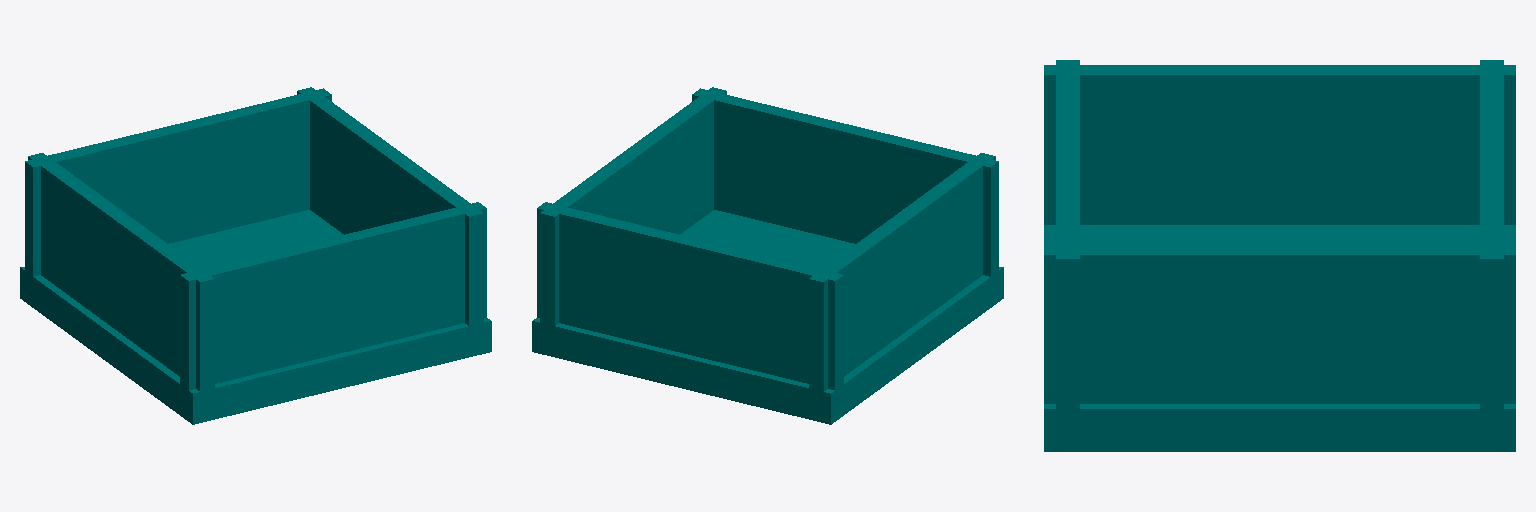
robot.urdf — bowl.urdf:
<?xml version="0.0" ?>
<robot name="bowl.urdf">

    <material name="yellow">
        <color rgba="1 1 0.4 1"/>
    </material>
    <material name="teal">
        <color rgba="0 .5 .5 1"/>
    </material>

    <link name="world"/>

    <link name="base">
        <contact>
            <lateral_friction value="1.0"/>
            <rolling_friction value="0.0"/>
            <contact_cfm value="0.0"/>
            <contact_erp value="1.0"/>
        </contact>
        <inertial>
            <origin rpy="0 0 0" xyz="0.0 0.0 0.0"/>
            <mass value=".1"/>
            <inertia ixx="1" ixy="0" ixz="0" iyy="1" iyz="0" izz="1"/>
        </inertial>
        <visual>
            <origin rpy="0 0 0" xyz="0 0 -.3"/>
            <geometry>
                <box size="1.0 1.0 .1"/>
            </geometry>
            <material name="teal"/>
        </visual>
        <collision>
            <origin rpy="0 0 0" xyz="0 0 -.3"/>
            <geometry>
                <!--<box size="1.2 1.2 .1"/>-->
                <box size="1.0 1.0 .1"/>
            </geometry>
        </collision>
        <visual>
            <origin rpy="0 0 0" xyz="0 -.45 -.1"/>
            <geometry>
                <box size="1 .05 .4"/>
            </geometry>
            <material name="teal"/>
        </visual>
        <collision>
            <!-- right -->
            <origin rpy="0 0 0" xyz="0 -.45 -.1"/>
            <geometry>
                <box size="1 .05 .4"/>
            </geometry>
        </collision>
        <visual>
            <origin rpy="0 0 0" xyz="0 .45 -.1"/>
            <geometry>
                <box size="1 .05 .4"/>
            </geometry>
            <material name="teal"/>
        </visual>
        <collision>
            <!-- left -->
            <origin rpy="0 0 0" xyz="0 .45 -.1"/>
            <geometry>
                <box size="1 .05 .4"/>
            </geometry>
        </collision>
        <visual>
            <origin rpy="0 0 0" xyz=".45 0 -.1"/>
            <geometry>
                <box size=".05 1 .4"/>
            </geometry>
            <material name="teal"/>
        </visual>

        <collision>
            <!-- front -->
            <origin rpy="0 0 0" xyz=".45 0 -.1"/>
            <geometry>
                <box size=".05 1 .4"/>
            </geometry>
        </collision>
        <visual>
            <origin rpy="0 0 0" xyz="-.45 0 -.1"/>
            <geometry>
                <box size=".05 1 .4"/>
            </geometry>
            <material name="teal"/>
        </visual>

        <collision>
            <!-- back -->
            <origin rpy="0 0 0" xyz="-.45 0 -.1"/>
            <geometry>
                <box size=".05 1 .4"/>
            </geometry>
        </collision>
    </link>

    <!--<joint name="base_joint" type="fixed">
        <parent link="world"/>
        <child link="base"/>
    </joint>-->

    <joint name="base_joint" type="prismatic">
        <parent link="world"/>
        <child link="base"/>
        <axis xyz="0 1 0"/>
        <limit effort="0" lower="-100" upper="100" velocity="100"/>
    </joint>

</robot>

--- Render facts (derived) ---
The picture shows the robot from 3 angles, left to right: view 1: azimuth 30°, elevation 25°; view 2: azimuth 150°, elevation 25°; view 3: azimuth 270°, elevation 25°; orthographic projection.
Model bowl.urdf with 2 links and 1 joints (1 prismatic), rooted at world, posed every joint at zero.
Visible links, largest first — view 1: base; view 2: base; view 3: base.
Link boxes in pixels (x1=…): base: x1=20, y1=87, x2=491, y2=424; base: x1=532, y1=87, x2=1003, y2=424; base: x1=1044, y1=60, x2=1515, y2=451.
Bounding box of the posed robot: 1 × 1 × 0.45 m (x, y, z).
Geometry: primitives only (box / cylinder / sphere), no mesh files.